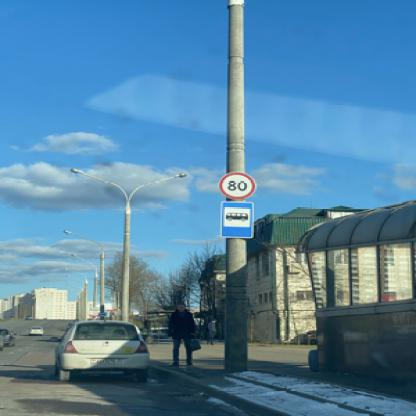speedlimit: (216, 170, 254, 198)
